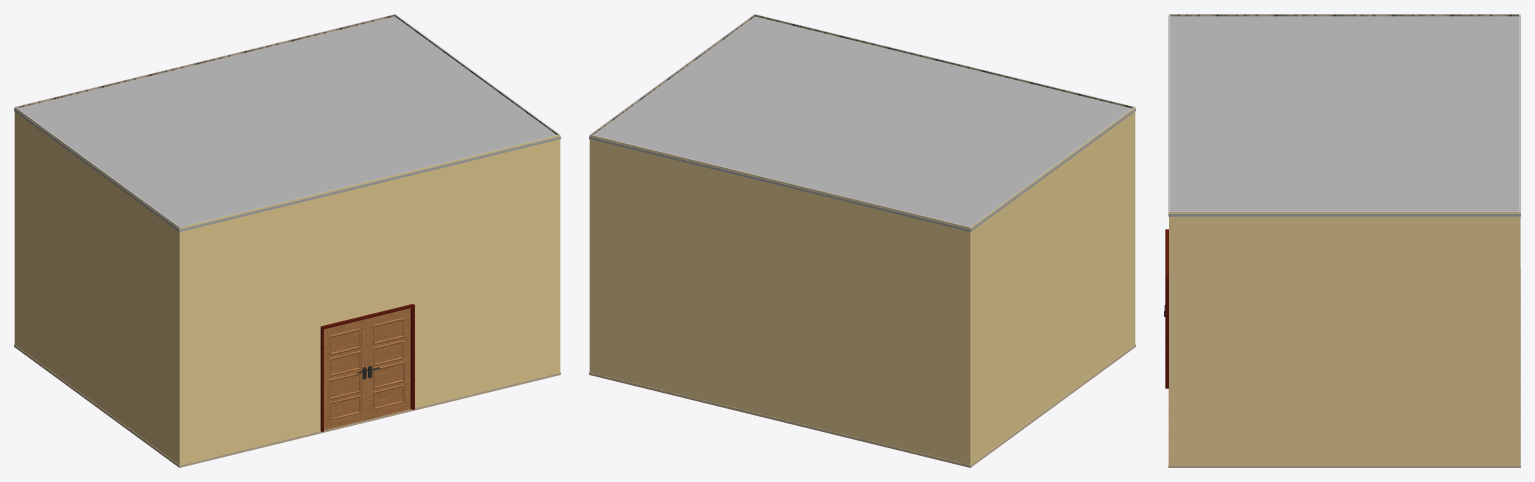
File: ProcTHOR-Train-116.glb
3 renders of one model, left to right at view 1: azimuth 30°, elevation 25°; view 2: azimuth 150°, elevation 25°; view 3: azimuth 270°, elevation 25°, orthographic. The views are drawn at different scales.
Parts seen in each view (by area): view 1: WallInside#wall|exterior|0.00|5.98|7.97|5.98, Ceiling#room|2|c, WallInside#wall|exterior|7.97|0.00|7.97|5.98, Doorway_Door_7b, Doorway_Door_7a, Floor#room|2|f, Doorway_Double_7, WallInside#wall|2|0.00|0.00|7.97|0.00; view 2: WallInside#wall|exterior|0.00|0.00|7.97|0.00, Ceiling#room|2|c, WallInside#wall|exterior|7.97|0.00|7.97|5.98, Floor#room|2|f, WallInside#wall|2|0.00|5.98|7.97|5.98; view 3: WallInside#wall|exterior|0.00|0.00|0.00|5.98, Ceiling#room|2|c, Floor#room|2|f, WallInside#wall|2|7.97|0.00|7.97|5.98, WallInside#wall|exterior|0.00|0.00|7.97|0.00, Doorway_Double_7, WallInside#wall|2|0.00|5.98|7.97|5.98.
Boxes of the visible parts, x1,y1,x2,y2 form: WallInside#wall|exterior|0.00|5.98|7.97|5.98: [179, 134, 560, 464]; Ceiling#room|2|c: [14, 16, 560, 231]; WallInside#wall|exterior|7.97|0.00|7.97|5.98: [14, 107, 179, 464]; Doorway_Door_7b: [367, 308, 410, 419]; Doorway_Door_7a: [324, 319, 367, 430]; Floor#room|2|f: [14, 344, 560, 467]; Doorway_Double_7: [320, 304, 414, 431]; WallInside#wall|2|0.00|0.00|7.97|0.00: [16, 14, 395, 108]; WallInside#wall|exterior|0.00|0.00|7.97|0.00: [589, 134, 970, 464]; Ceiling#room|2|c: [589, 16, 1135, 231]; WallInside#wall|exterior|7.97|0.00|7.97|5.98: [970, 107, 1135, 464]; Floor#room|2|f: [589, 344, 1135, 467]; WallInside#wall|2|0.00|5.98|7.97|5.98: [754, 14, 1133, 108]; WallInside#wall|exterior|0.00|0.00|0.00|5.98: [1169, 211, 1520, 464]; Ceiling#room|2|c: [1168, 15, 1520, 216]; Floor#room|2|f: [1168, 267, 1520, 467]; WallInside#wall|2|7.97|0.00|7.97|5.98: [1170, 14, 1519, 16]; WallInside#wall|exterior|0.00|0.00|7.97|0.00: [1519, 14, 1520, 464]; Doorway_Double_7: [1165, 229, 1168, 388]; WallInside#wall|2|0.00|5.98|7.97|5.98: [1169, 14, 1170, 211].
Size of what is drawn, in the model's own units: 8.01 by 4.83 by 6.09.
Materials: 43 (14 with a texture image).
